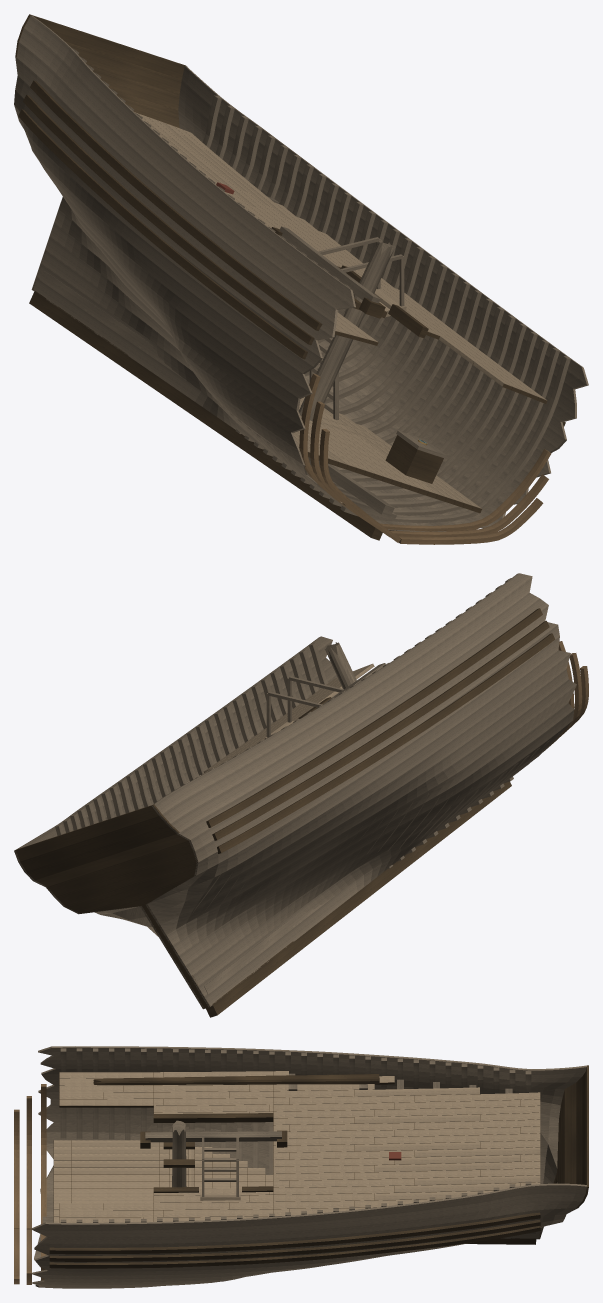
Rendered from ship.glb.
The picture shows the model from 3 angles, top to bottom: view 1: azimuth 30°, elevation 25°; view 2: azimuth 150°, elevation 25°; view 3: azimuth 270°, elevation 25°; orthographic projection. The views are drawn at different scales.
Parts seen in each view (by area): view 1: hull_strake_starboard_17, hull_strake_starboard_16, hull_strake_starboard_15, fractured_keel, hull_strake_starboard_10, hull_strake_port_17, hull_strake_starboard_09, wale_s_0, wale_s_1, wale_s_2, hull_strake_starboard_00, hull_strake_starboard_08 (+53 smaller); view 2: hull_strake_starboard_17, hull_strake_starboard_16, hull_strake_starboard_15, hull_strake_starboard_09, hull_strake_starboard_10, hull_strake_starboard_08, hull_strake_starboard_07, hull_strake_starboard_06, hull_strake_starboard_05, hull_strake_starboard_04, hull_strake_starboard_03, fractured_keel (+24 smaller); view 3: hull_strake_port_17, hull_strake_port_16, hull_strake_port_15, wale_p_0, wale_p_1, wale_p_2, hull_strake_starboard_17, fallen_yard, hull_strake_port_14, hull_strake_starboard_14, hull_strake_starboard_13, hull_strake_starboard_15 (+96 smaller).
Part boxes in pixels (box(x1,y1,x2,y2)): hull_strake_starboard_17: box(24, 15, 355, 307); hull_strake_starboard_16: box(19, 28, 355, 309); hull_strake_starboard_15: box(16, 42, 337, 323); fractured_keel: box(29, 291, 382, 540); hull_strake_starboard_10: box(25, 131, 314, 373); hull_strake_port_17: box(182, 66, 588, 385); hull_strake_starboard_09: box(36, 156, 312, 393); wale_s_0: box(30, 80, 322, 330); wale_s_1: box(23, 94, 314, 345); wale_s_2: box(18, 109, 307, 359); hull_strake_starboard_00: box(31, 276, 345, 505); hull_strake_starboard_08: box(51, 179, 312, 398); hull_strake_starboard_17: box(151, 573, 531, 815); hull_strake_starboard_16: box(159, 576, 532, 824); hull_strake_starboard_15: box(168, 592, 539, 833); hull_strake_starboard_09: box(146, 650, 570, 914); hull_strake_starboard_10: box(146, 636, 559, 904); hull_strake_starboard_08: box(152, 653, 570, 925); hull_strake_starboard_07: box(158, 669, 568, 935); hull_strake_starboard_06: box(165, 679, 576, 945); hull_strake_starboard_05: box(171, 685, 576, 956); hull_strake_starboard_04: box(177, 703, 573, 966); hull_strake_starboard_03: box(184, 710, 573, 976); fractured_keel: box(206, 781, 511, 1017); hull_strake_port_17: box(32, 1183, 586, 1230); hull_strake_port_16: box(33, 1193, 585, 1237); hull_strake_port_15: box(40, 1201, 581, 1244); wale_p_0: box(49, 1212, 540, 1254); wale_p_1: box(49, 1220, 540, 1261); wale_p_2: box(49, 1226, 540, 1268); hull_strake_starboard_17: box(38, 1046, 586, 1074); fallen_yard: box(93, 1074, 379, 1084); hull_strake_port_14: box(34, 1208, 577, 1249); hull_strake_starboard_14: box(40, 1059, 575, 1089); hull_strake_starboard_13: box(41, 1064, 564, 1096); hull_strake_starboard_15: box(46, 1055, 581, 1082).
Bounding box in the file's own units: 6.21 × 5.46 × 14.65.
Materials: 9 (4 with a texture image).
